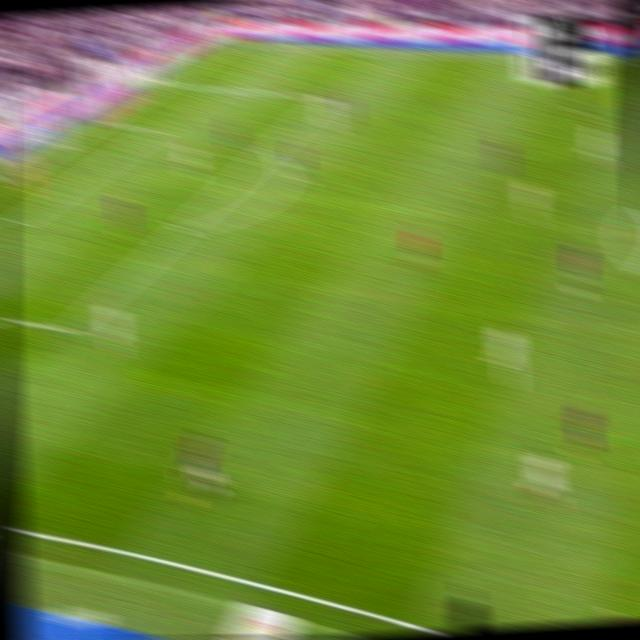bigarea_bottom_inner: (57, 314, 81, 345)
bigarea_top_outter: (157, 74, 176, 90)
bottom_arc_area_intersection: (171, 217, 194, 240)
corner: (219, 36, 239, 49)
smallarea_top_inner: (147, 121, 165, 137)
top_arc_area_intersection: (261, 140, 279, 159)
